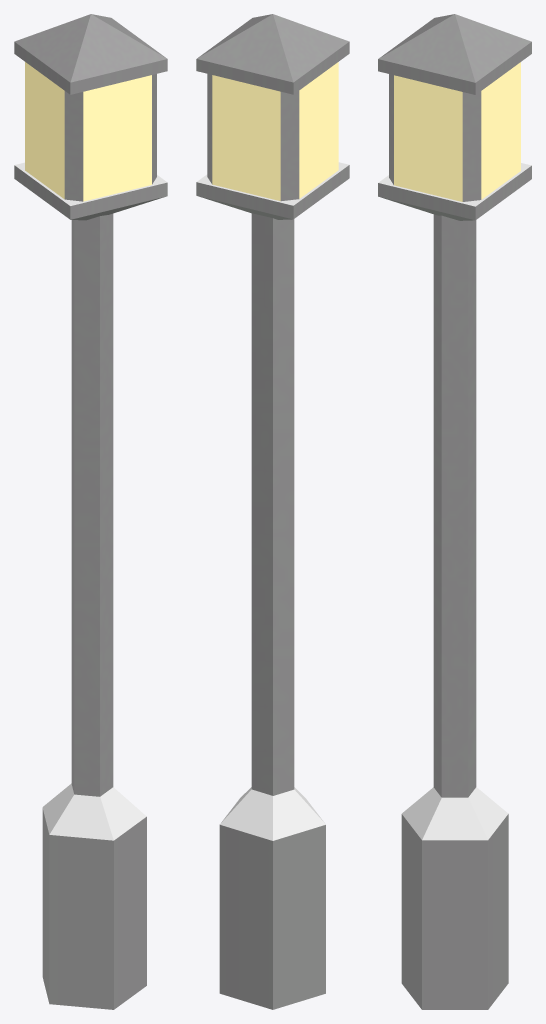
Rendered from stolb.004.glb.
3 renders of one model, left to right at view 1: azimuth 30°, elevation 25°; view 2: azimuth 150°, elevation 25°; view 3: azimuth 330°, elevation 25°, orthographic.
Visible parts, largest first — view 1: stolb.004(Clone); view 2: stolb.004(Clone); view 3: stolb.004(Clone).
Part boxes in pixels (x1,y1,x2,y2): stolb.004(Clone): [14, 14, 167, 1009]; stolb.004(Clone): [196, 14, 349, 1009]; stolb.004(Clone): [378, 14, 531, 1009].
Size of the model in its own units: 0.3229 by 3.09 by 0.3229.
1 material, 1 textured.
